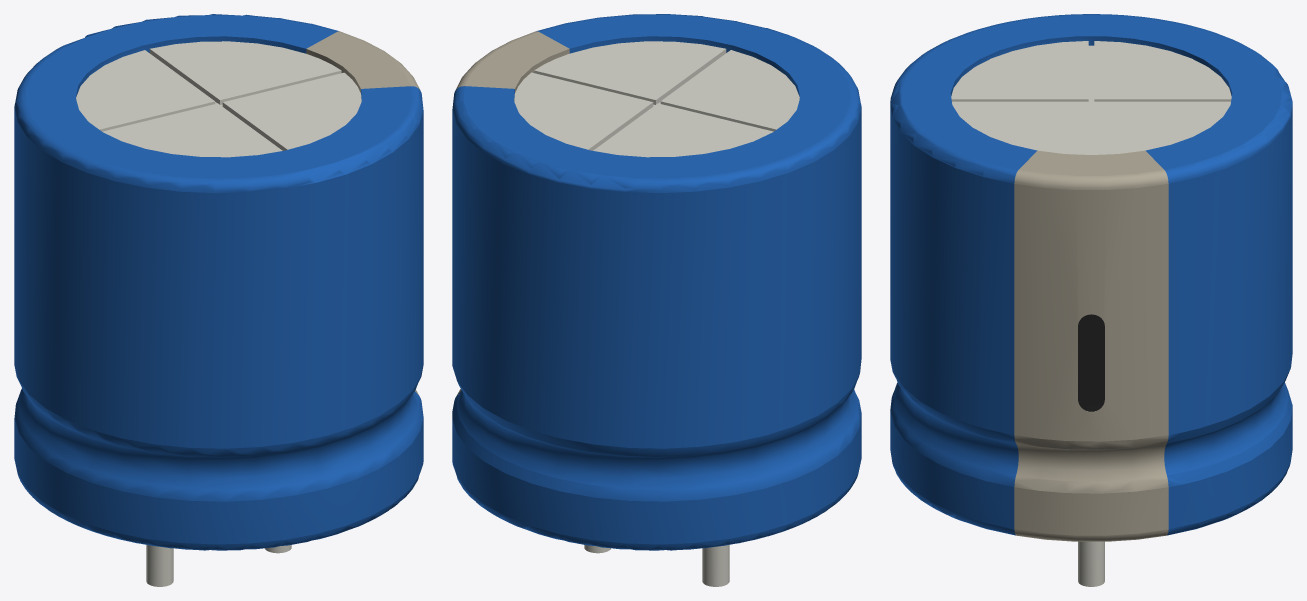
The model's file is kc-cp_radial_d7.5mm_p2.50mm.glb.
The picture shows the model from 3 angles, left to right: view 1: azimuth 30°, elevation 25°; view 2: azimuth 150°, elevation 25°; view 3: azimuth 270°, elevation 25°; orthographic projection.
Parts seen in each view (by area): view 1: 0_0.16666666666666666_0.5_0, 0.6666666666666666_0.6666666666666666_0.5833333333333334_0.8, 0.4166666666666667_0.4166666666666667_0.3333333333333333_0; view 2: 0_0.16666666666666666_0.5_0, 0.6666666666666666_0.6666666666666666_0.5833333333333334_0.8, 0.4166666666666667_0.4166666666666667_0.3333333333333333_0; view 3: 0_0.16666666666666666_0.5_0, 0.4166666666666667_0.4166666666666667_0.3333333333333333_0, 0.6666666666666666_0.6666666666666666_0.5833333333333334_0.8, 0_0_0_0.
Boxes of the visible parts, bbox=[...] form: 0_0.16666666666666666_0.5_0: bbox=[14, 14, 423, 550]; 0.6666666666666666_0.6666666666666666_0.5833333333333334_0.8: bbox=[76, 41, 361, 586]; 0.4166666666666667_0.4166666666666667_0.3333333333333333_0: bbox=[306, 31, 420, 394]; 0_0.16666666666666666_0.5_0: bbox=[452, 14, 861, 550]; 0.6666666666666666_0.6666666666666666_0.5833333333333334_0.8: bbox=[514, 41, 799, 586]; 0.4166666666666667_0.4166666666666667_0.3333333333333333_0: bbox=[456, 31, 569, 394]; 0_0.16666666666666666_0.5_0: bbox=[890, 14, 1292, 535]; 0.4166666666666667_0.4166666666666667_0.3333333333333333_0: bbox=[1014, 150, 1168, 541]; 0.6666666666666666_0.6666666666666666_0.5833333333333334_0.8: bbox=[951, 41, 1231, 586]; 0_0_0_0: bbox=[1078, 314, 1104, 411].
Size of the model in its own units: 0.75 by 0.95 by 0.7498.
